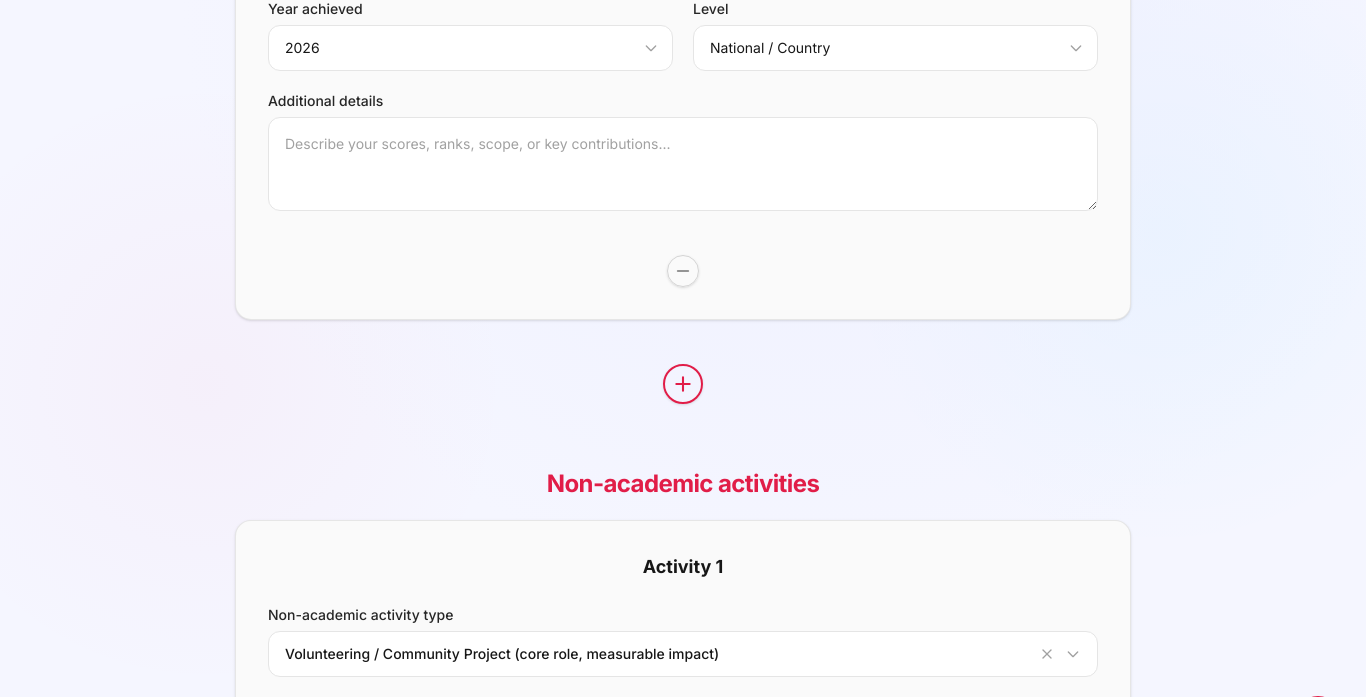
ReflectionEvidenceForm (SVG & Mockup UI) › allows adding and removing achievements
The image size is (1366, 697).
(page scrolled)
Click Add Achievement button
Click the button titled "Add" at (683, 384), box [663,364,703,404]
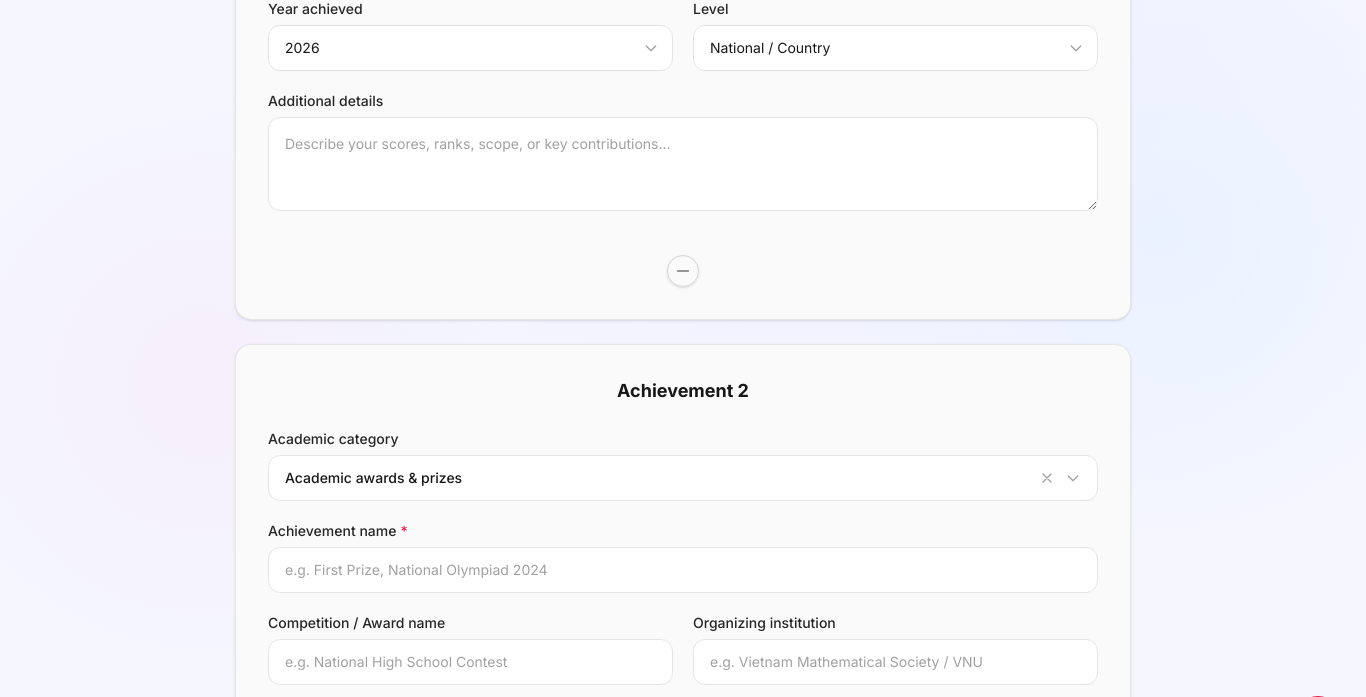
Now the heading "Achievement 2" is shown, box [617,380,749,401]
